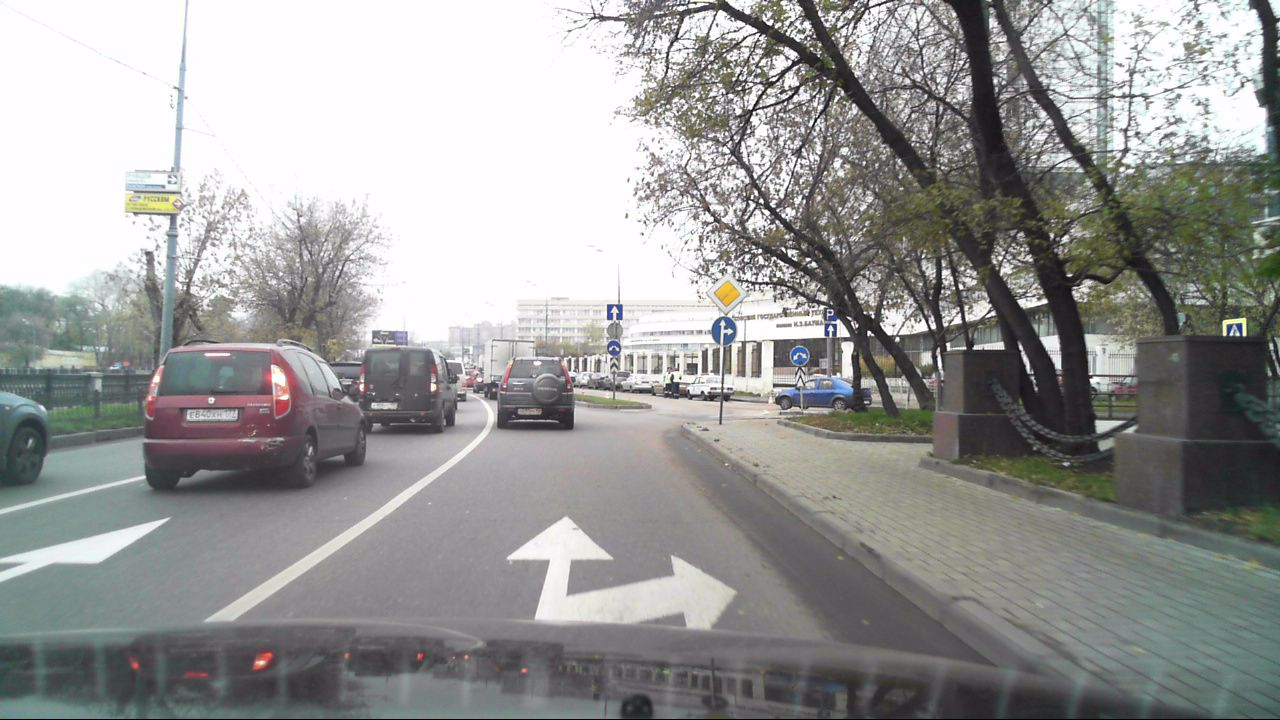main road: (705, 273, 747, 315)
